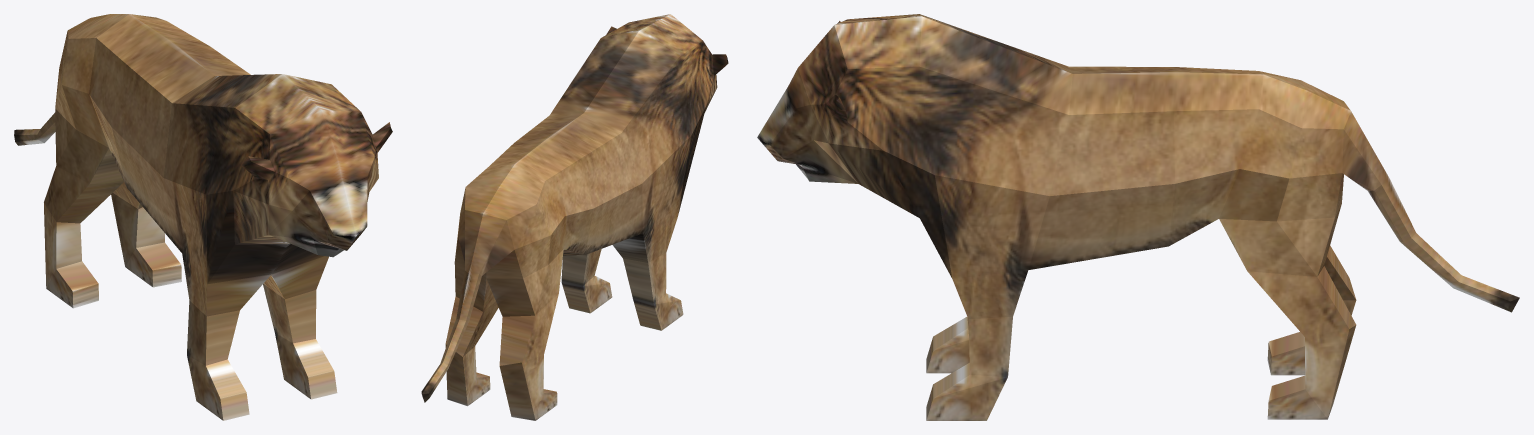
The model's file is Lion.fbx.
3 views of the same model, side by side, from view 1: azimuth 30°, elevation 25°; view 2: azimuth 150°, elevation 25°; view 3: azimuth 270°, elevation 25° (orthographic). The views are drawn at different scales.
Parts seen in each view (by area): view 1: Lion; view 2: Lion; view 3: Lion.
Boxes of the visible parts, box(x1,y1,x2,y2) form: Lion: box(14, 14, 392, 420); Lion: box(421, 14, 728, 420); Lion: box(757, 14, 1519, 420).
Size of the model in its own units: 0.3063 by 0.6551 by 1.21.
